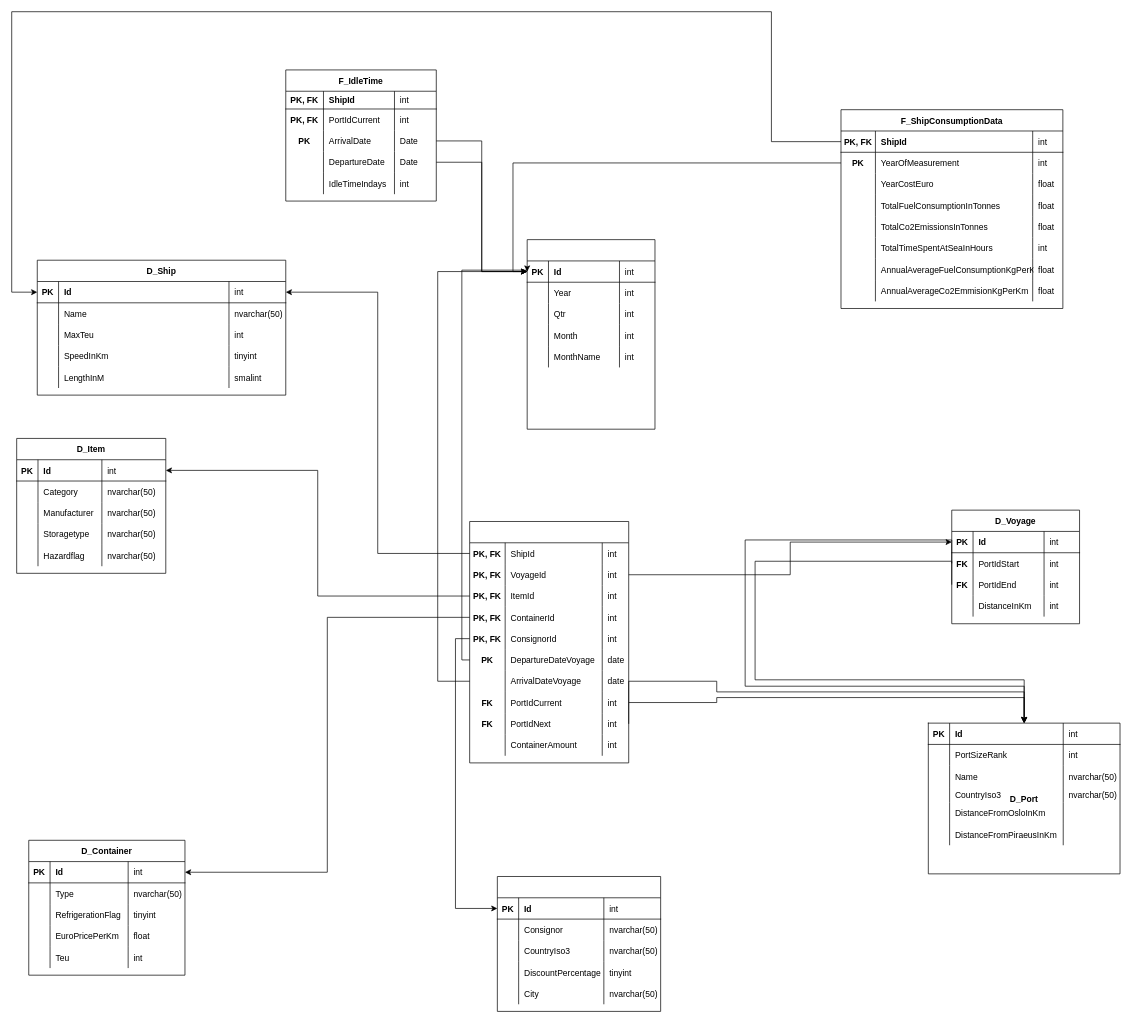
The diagram is 1132 pixels wide and 1023 high, and some of its shapes have lost their labels. The shapes that lost their labels are listed below. From the top down, each one's box as (x1, y1, x2, y2) in pixels, then its label:
(526, 239, 655, 429): D_Calendar
(469, 521, 629, 763): F_Shipment
(497, 876, 661, 1011): D_Consignor
